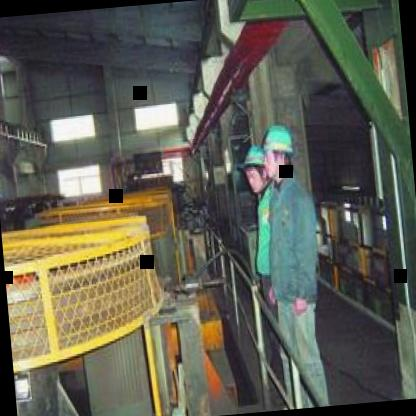helmet: (262, 119, 298, 183), (240, 143, 269, 193)
